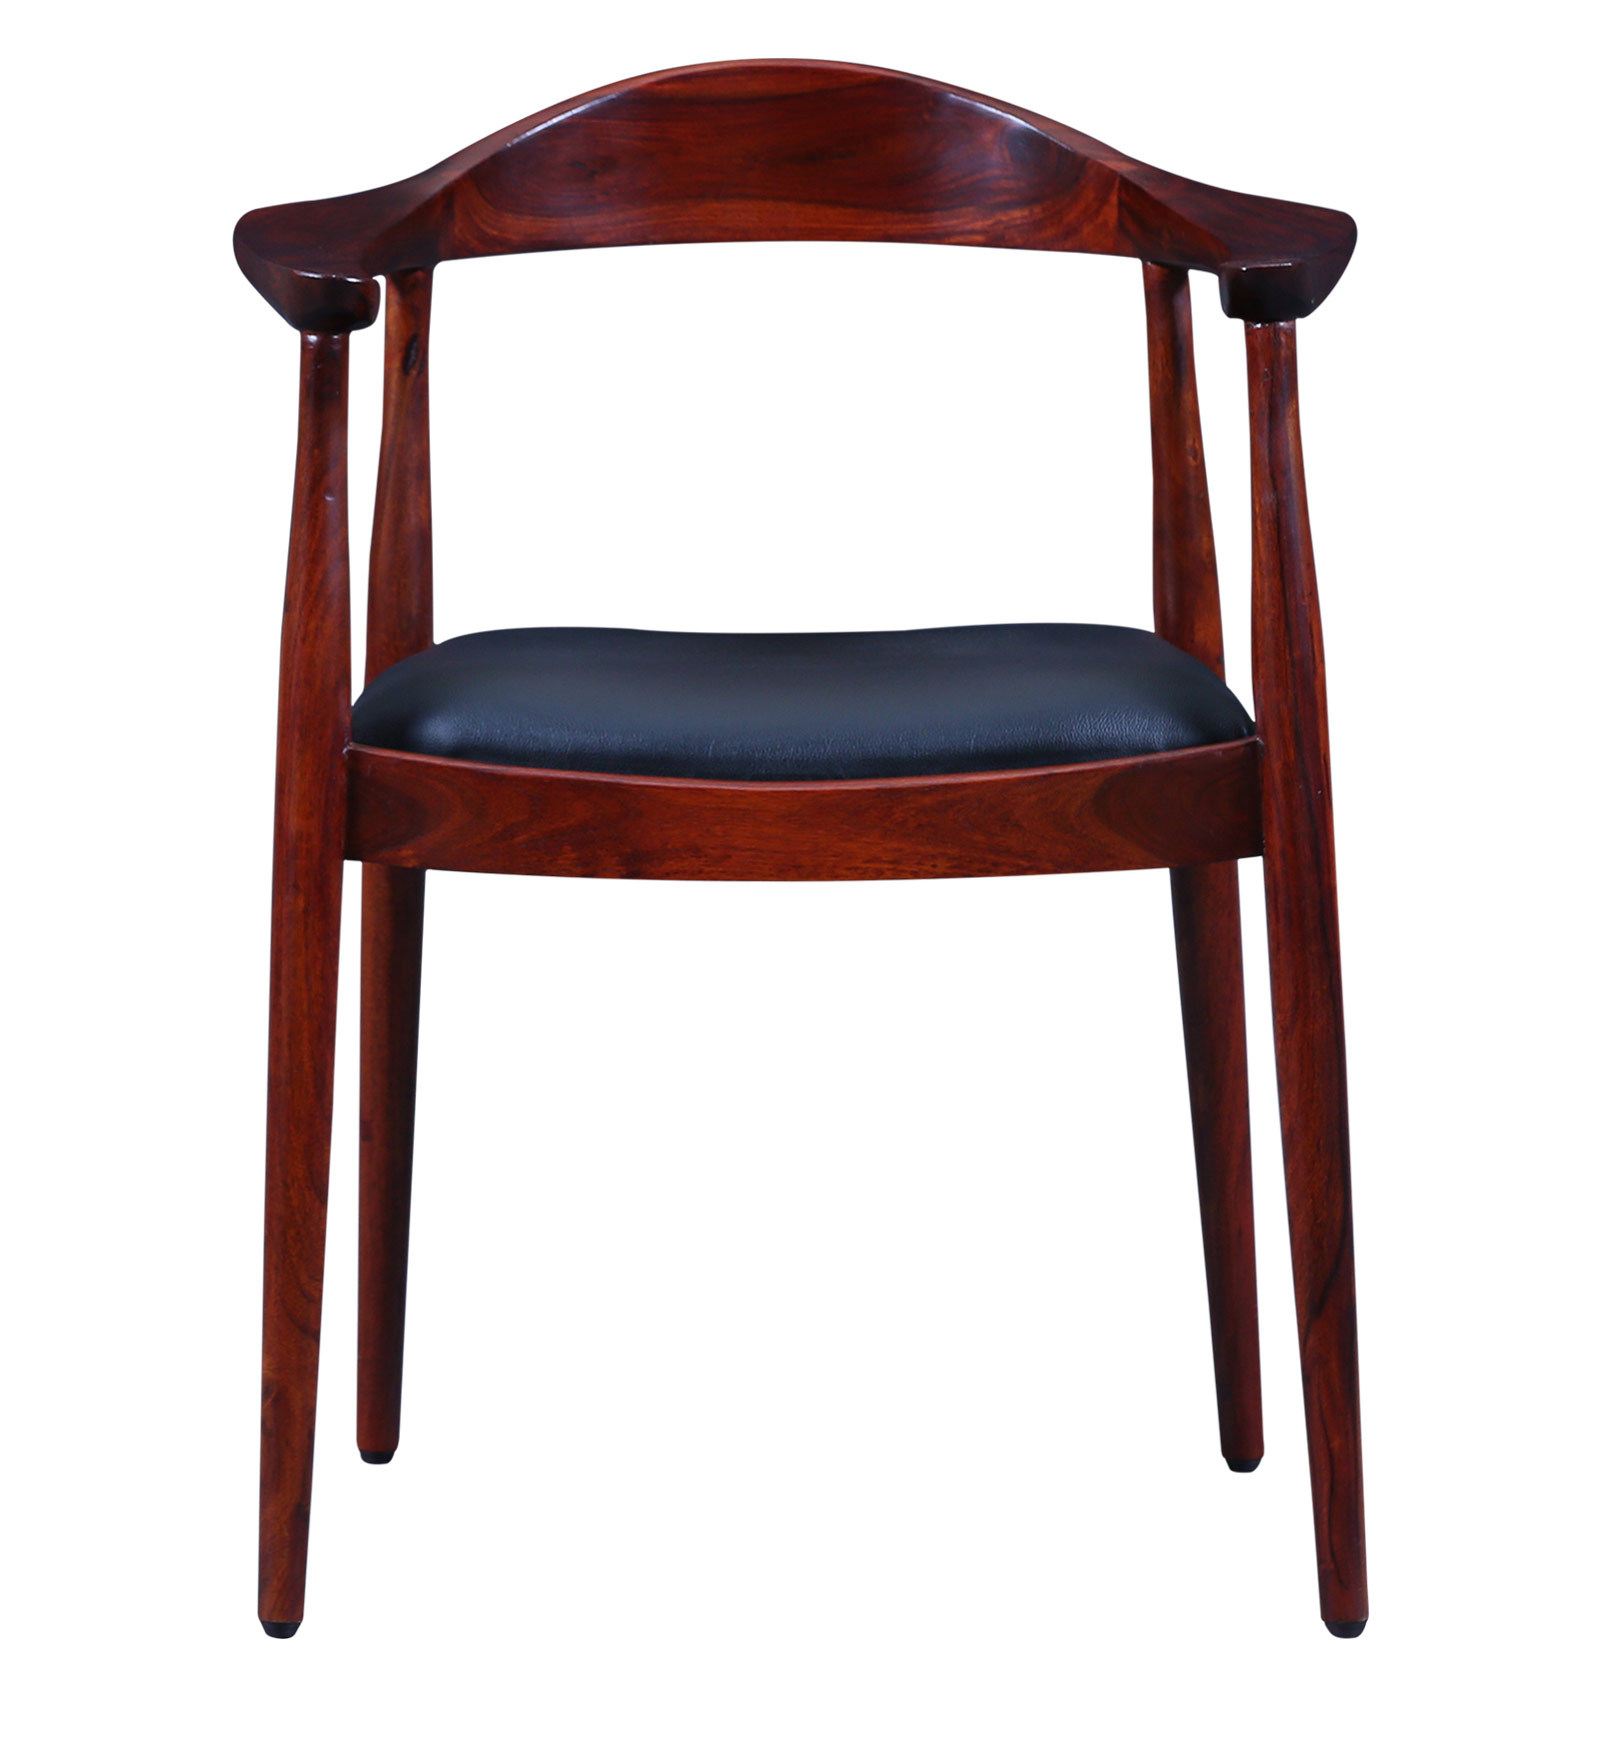Esvelt Arm Chair in Honey Oak Finish by Woodsworth: (120, 35, 1513, 1660)
